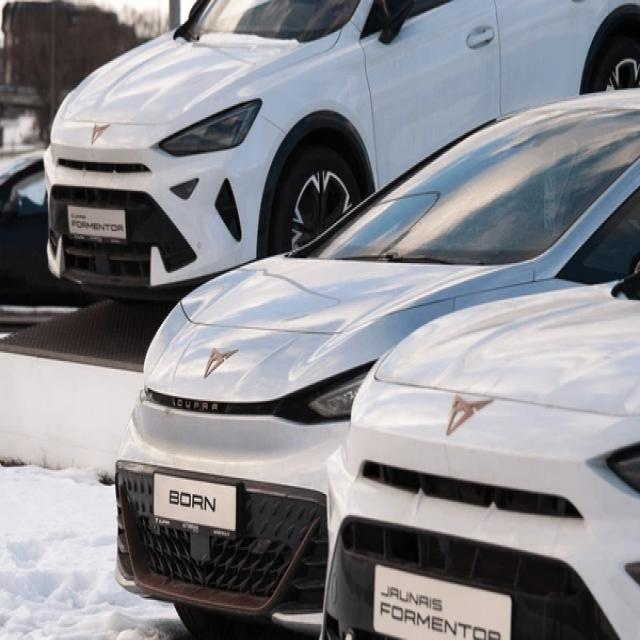cupra: (445, 394, 494, 436), (199, 342, 237, 382), (82, 119, 108, 150)
